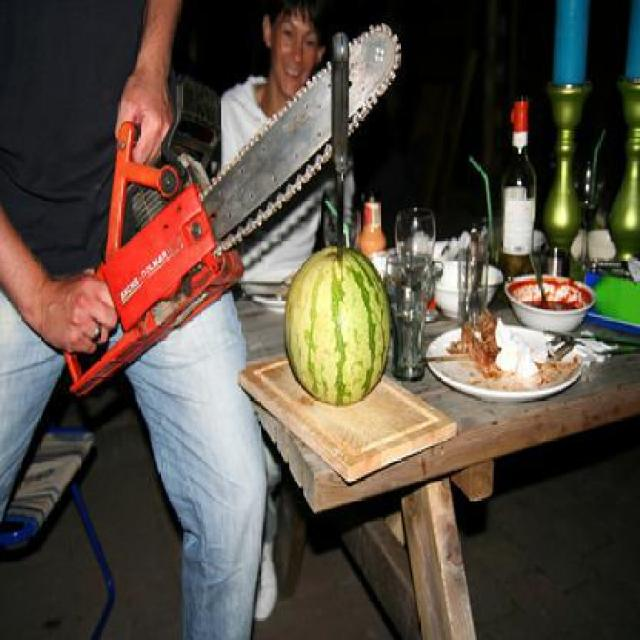Chainsaw: (63, 21, 409, 397)
